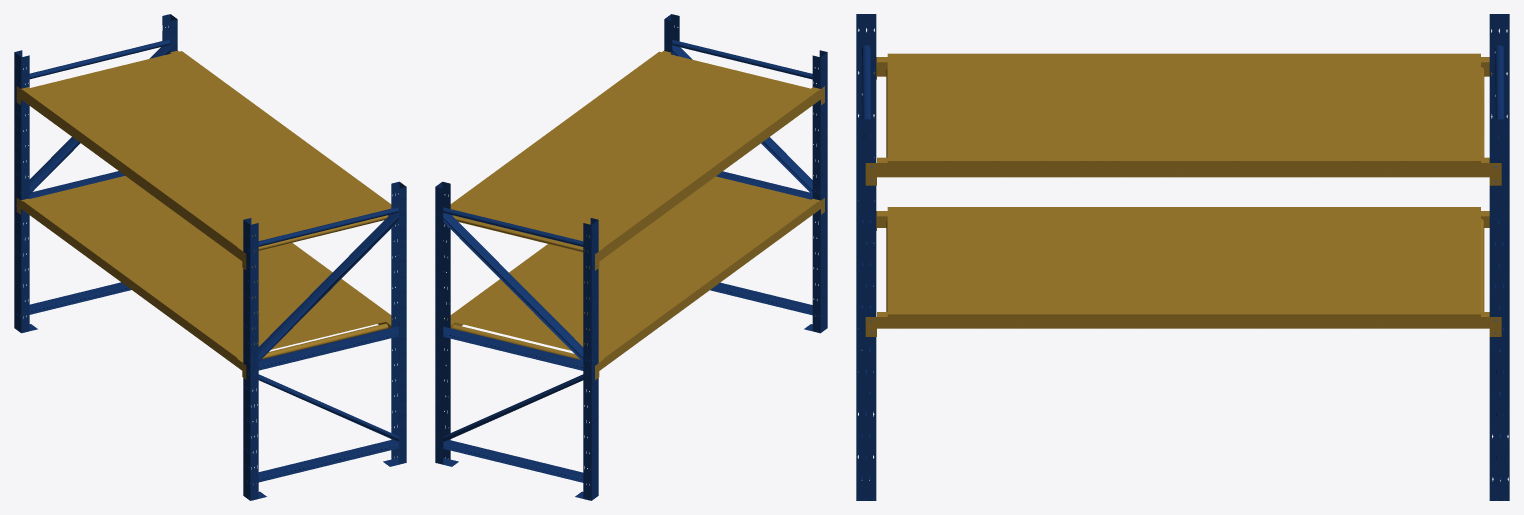
The model's file is ESTANTERIA INDUSTRIAL v1.fbx.
The picture shows the model from 3 angles, left to right: view 1: azimuth 30°, elevation 25°; view 2: azimuth 150°, elevation 25°; view 3: azimuth 270°, elevation 25°; orthographic projection. The views are drawn at different scales.
Parts seen in each view (by area): view 1: REJA, BASE ESQUINAS, BASE CENTRRO, BARRAS SOPORTE, BARRAS CIRCULARES CENTRO; view 2: REJA, BASE ESQUINAS, BASE CENTRRO, BARRAS SOPORTE, BARRAS CIRCULARES CENTRO; view 3: REJA, BASE ESQUINAS, BARRAS SOPORTE, BASE CENTRRO, BARRAS CIRCULARES CENTRO.
Boxes of the visible parts, bbox=[...] form: REJA: bbox=[22, 51, 395, 361]; BASE ESQUINAS: bbox=[14, 14, 406, 500]; BASE CENTRRO: bbox=[17, 39, 402, 483]; BARRAS SOPORTE: bbox=[16, 50, 391, 379]; BARRAS CIRCULARES CENTRO: bbox=[243, 215, 388, 362]; REJA: bbox=[447, 51, 818, 362]; BASE ESQUINAS: bbox=[435, 14, 827, 500]; BASE CENTRRO: bbox=[437, 39, 824, 484]; BARRAS SOPORTE: bbox=[450, 50, 824, 379]; BARRAS CIRCULARES CENTRO: bbox=[452, 215, 587, 359]; REJA: bbox=[887, 53, 1480, 319]; BASE ESQUINAS: bbox=[856, 14, 1509, 500]; BARRAS SOPORTE: bbox=[865, 57, 1501, 336]; BASE CENTRRO: bbox=[861, 45, 1504, 479]; BARRAS CIRCULARES CENTRO: bbox=[886, 67, 1484, 311].
Size of the model in its own units: 23.3 by 38.57 by 59.87.
5 materials, 5 textured.
